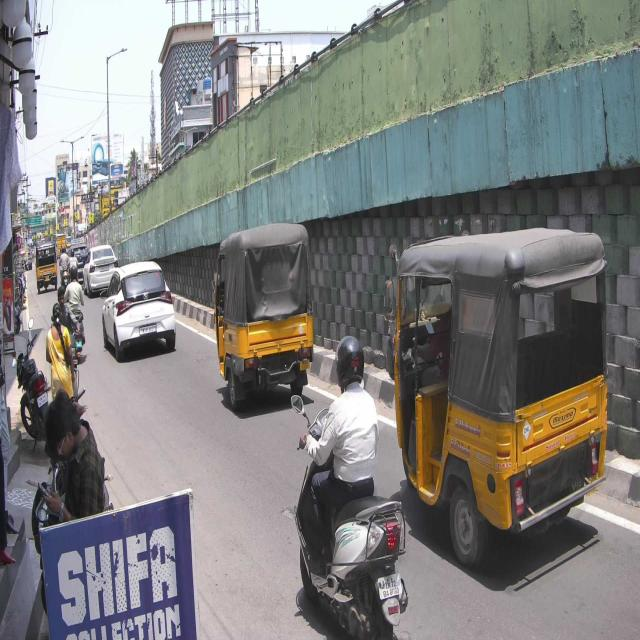single_rider: (287, 334, 408, 640)
